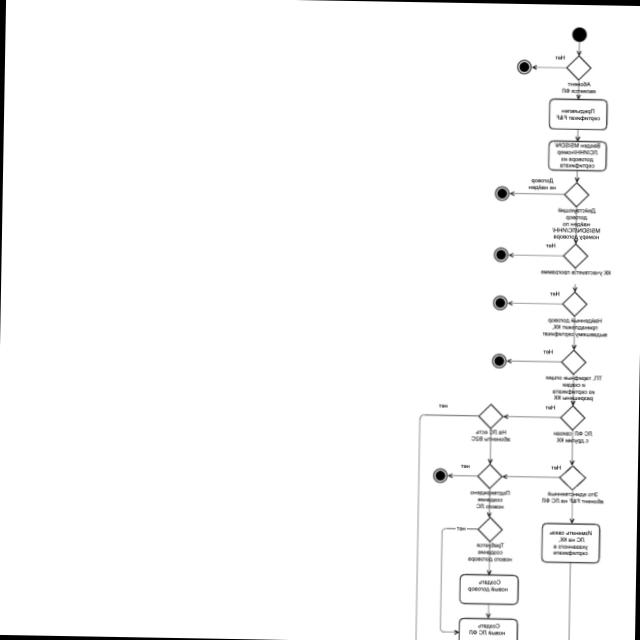arrow: (438, 523, 478, 636), (505, 356, 563, 364), (502, 472, 558, 480), (504, 412, 560, 418), (571, 207, 580, 242), (568, 428, 576, 466), (568, 488, 576, 524), (485, 541, 493, 575), (484, 488, 492, 518), (570, 318, 577, 350), (532, 64, 568, 70), (570, 371, 576, 407), (448, 472, 478, 479), (571, 268, 579, 292), (487, 428, 492, 463), (574, 81, 582, 99), (572, 169, 580, 183), (485, 603, 491, 619), (575, 42, 581, 56), (574, 128, 580, 142)
circle: (493, 246, 508, 262), (494, 186, 509, 200), (571, 28, 586, 42), (433, 469, 447, 483), (491, 354, 505, 368), (492, 296, 506, 310), (516, 60, 530, 73)
diamond: (559, 466, 585, 490), (563, 244, 587, 268), (564, 183, 588, 207), (562, 292, 586, 316), (478, 518, 501, 542), (560, 406, 584, 429), (566, 56, 590, 79), (561, 350, 584, 374), (478, 464, 500, 488), (479, 405, 501, 428)
rectangle: (541, 523, 599, 563), (459, 574, 517, 605), (549, 99, 606, 130), (548, 141, 606, 171)
text_region: (550, 206, 604, 240), (542, 315, 606, 338), (546, 374, 602, 400), (467, 541, 518, 564), (538, 489, 608, 505), (467, 488, 512, 511), (545, 427, 595, 445), (540, 267, 612, 278), (469, 429, 512, 442), (560, 80, 598, 94), (526, 176, 558, 192), (435, 400, 460, 410), (548, 461, 566, 471), (540, 242, 556, 252), (546, 288, 561, 298), (541, 402, 556, 410), (458, 461, 472, 469), (542, 347, 556, 354), (554, 54, 565, 60)
